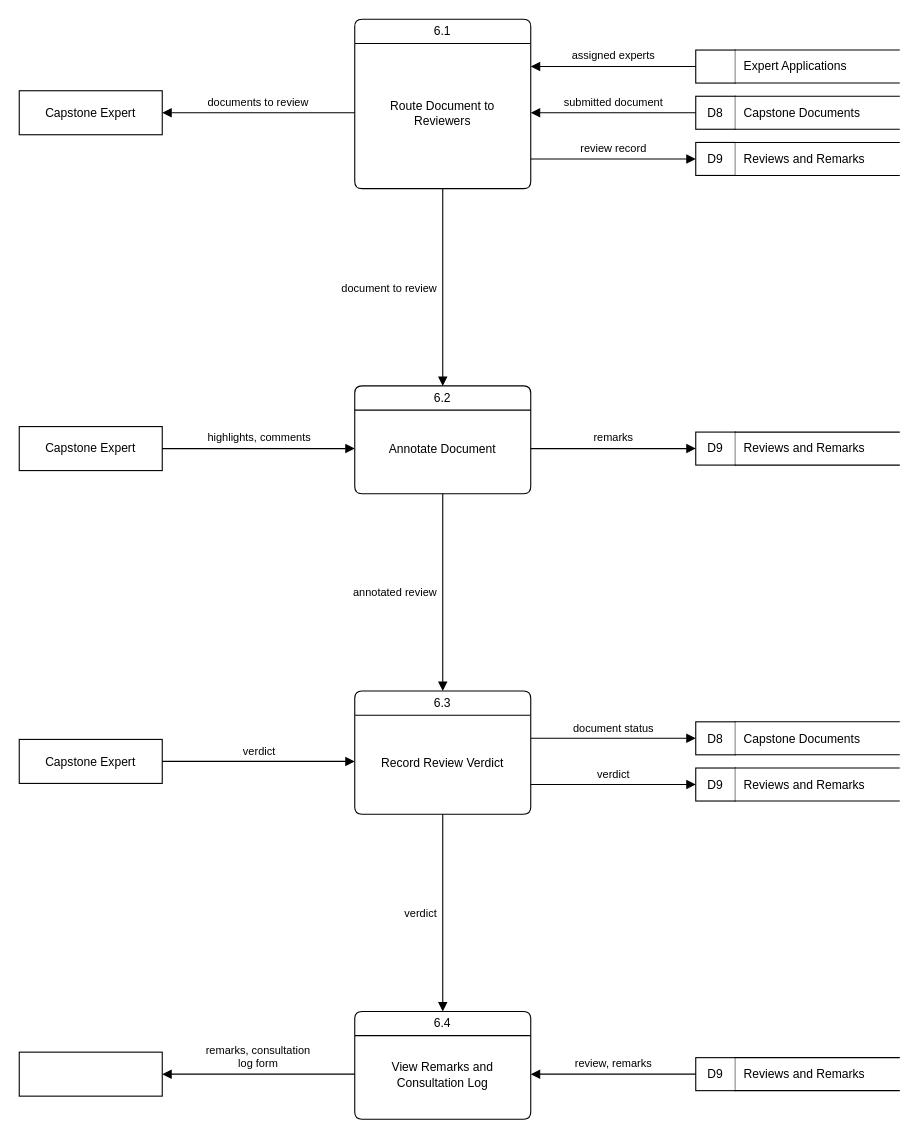
The diagram is 919 pixels wide and 1139 high, and some of its shapes have lost their labels. Each missing label, with the centre of its shape:
D4: pixel 715 66
Student: pixel 90 1073
